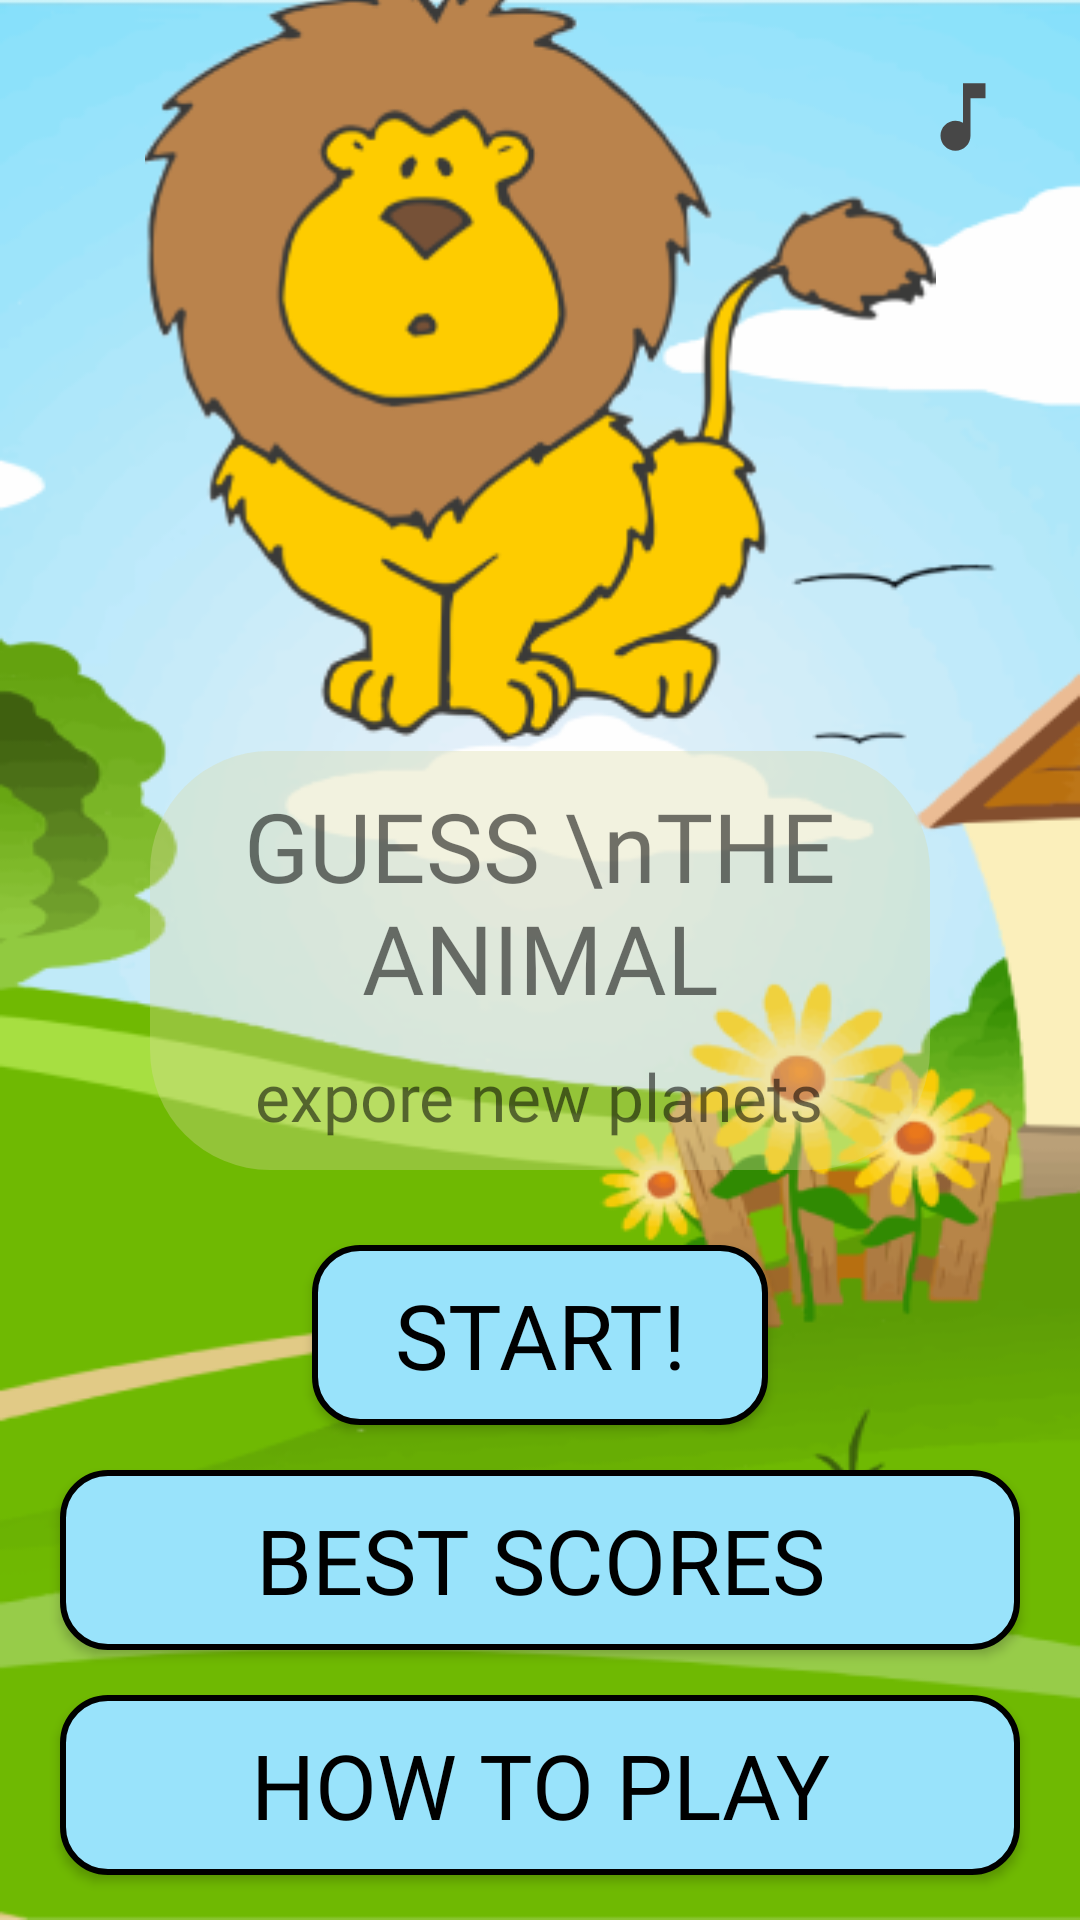

Screen size 1080x1920. Icon name, then its box in pixels as (x1, y1, x2, y2):
music note: (940, 83, 986, 151)
